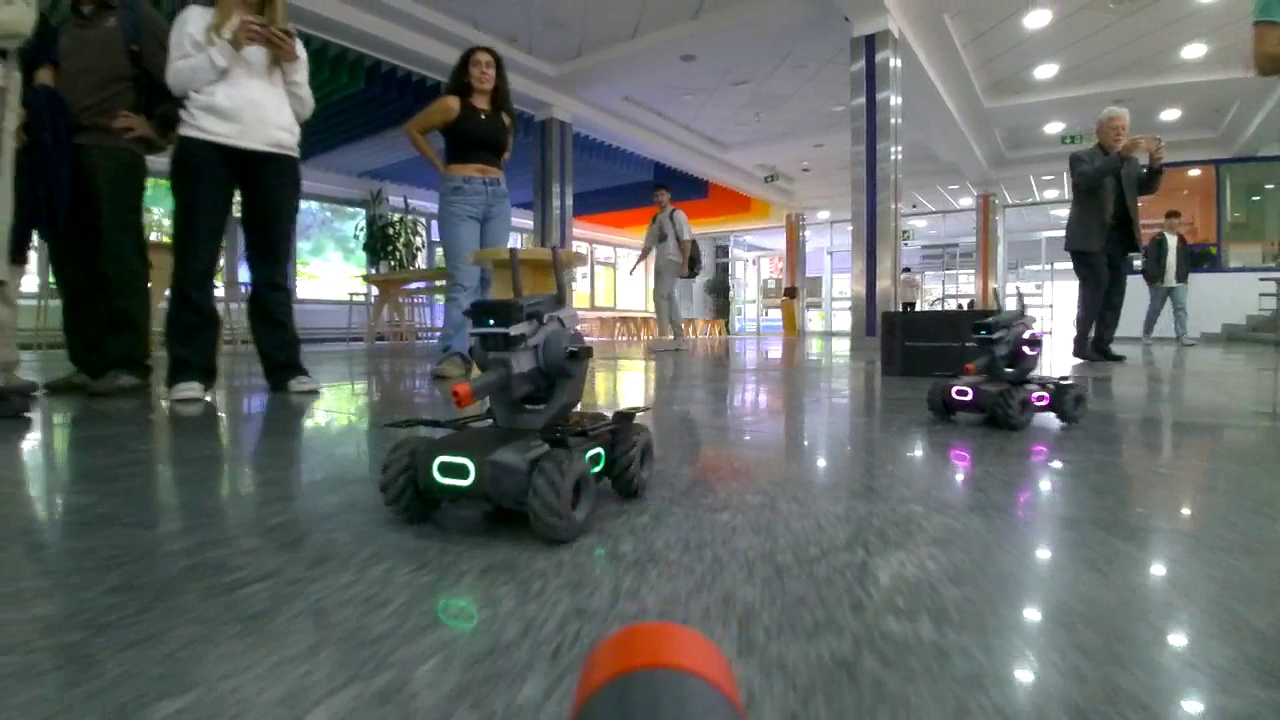robot: (377, 290, 658, 550), (925, 307, 1092, 430)
